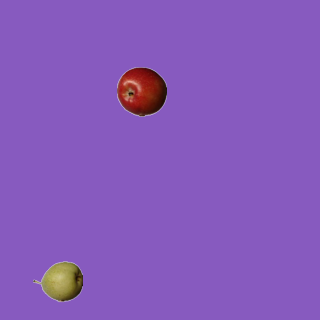Apple Braeburn: (116, 66, 166, 116)
Pear: (32, 256, 82, 306)
